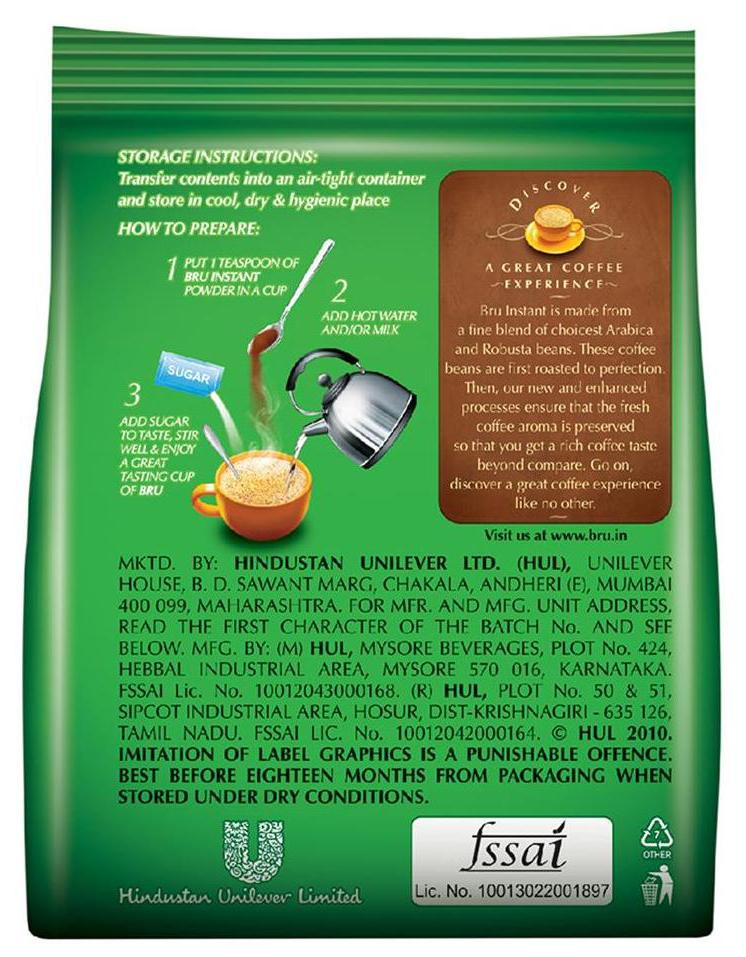fssai: (459, 821, 565, 874)
